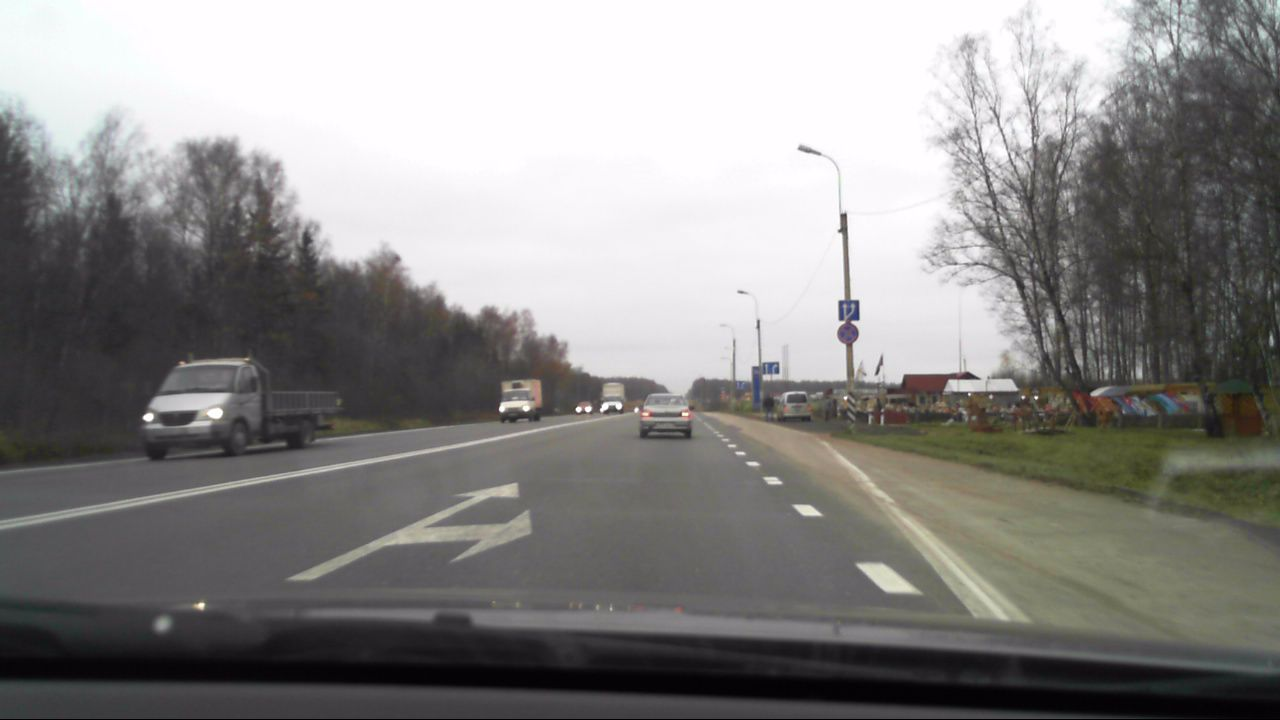No Parking: (837, 323, 859, 343)
